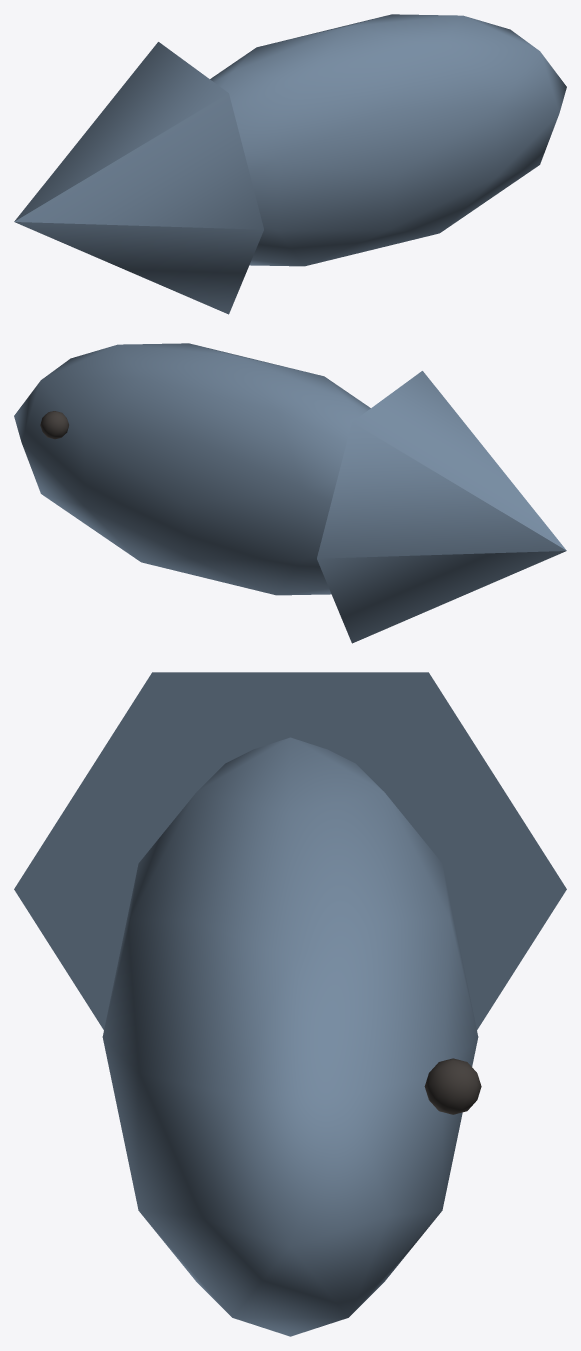
File: fish.glb
3 renders of one model, top to bottom at view 1: azimuth 30°, elevation 25°; view 2: azimuth 150°, elevation 25°; view 3: azimuth 270°, elevation 25°, orthographic. The views are drawn at different scales.
Visible parts, largest first — view 1: fish; view 2: fish; view 3: fish.
Boxes of the visible parts, box(x1,y1,x2,y2) form: fish: box(14, 14, 566, 314); fish: box(14, 343, 566, 643); fish: box(14, 672, 566, 1336).
Size of the model in its own units: 1.54 by 0.6048 by 0.68.
